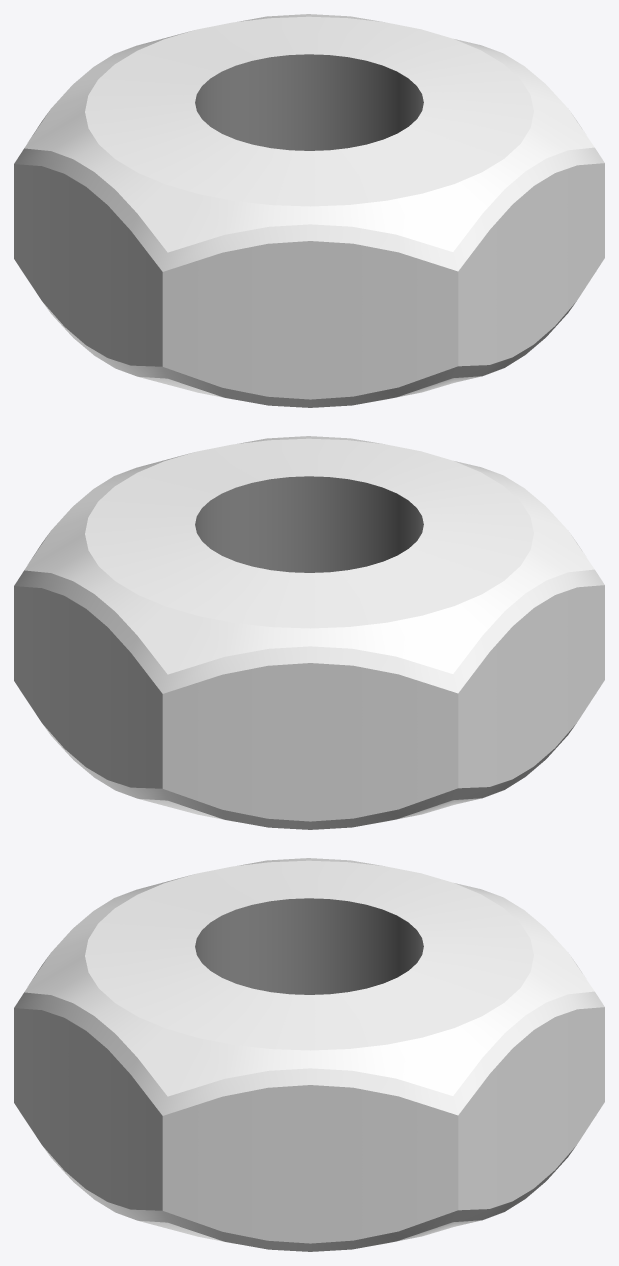
Rendered from Nut 3.fbx.
3 views of the same model, one above another, from view 1: azimuth 30°, elevation 25°; view 2: azimuth 150°, elevation 25°; view 3: azimuth 270°, elevation 25° (orthographic).
Parts seen in each view (by area): view 1: Nut 1.005; view 2: Nut 1.005; view 3: Nut 1.005.
Boxes of the visible parts, bbox=[...] form: Nut 1.005: bbox=[14, 14, 604, 407]; Nut 1.005: bbox=[14, 436, 604, 829]; Nut 1.005: bbox=[14, 858, 604, 1251].
Bounding box in the file's own units: 1.63 × 0.7545 × 1.87.
